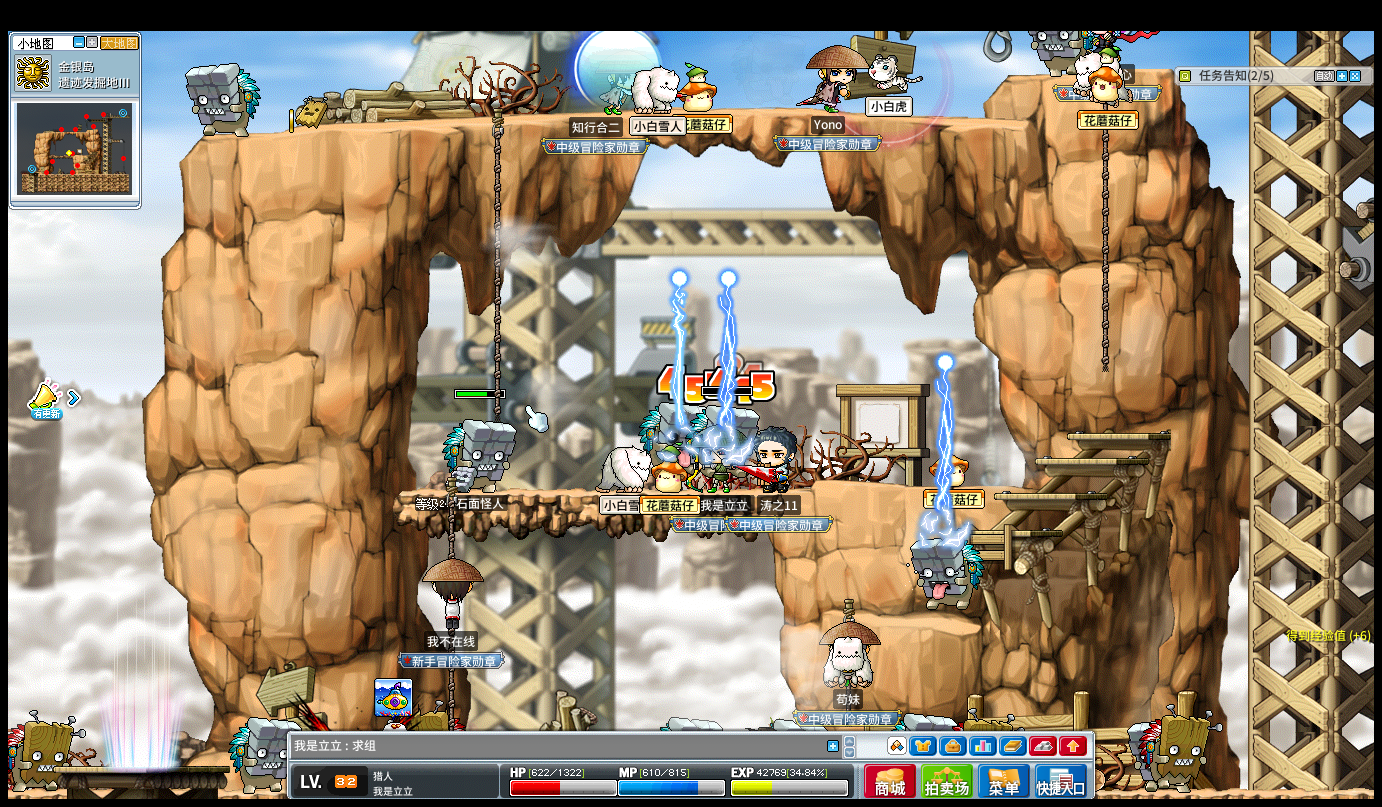floor: (200, 105, 1042, 138), (399, 489, 781, 499), (872, 613, 983, 634), (868, 482, 1035, 490), (1066, 429, 1171, 441), (1030, 456, 1146, 464), (995, 492, 1107, 500), (965, 528, 1059, 537)
monster: (1133, 709, 1216, 791), (183, 61, 260, 138), (909, 536, 982, 615), (6, 713, 78, 791), (444, 418, 514, 491), (228, 719, 289, 793), (700, 405, 758, 464), (638, 401, 694, 461)
rope: (1096, 118, 1111, 369), (491, 102, 501, 421), (445, 483, 457, 558)
